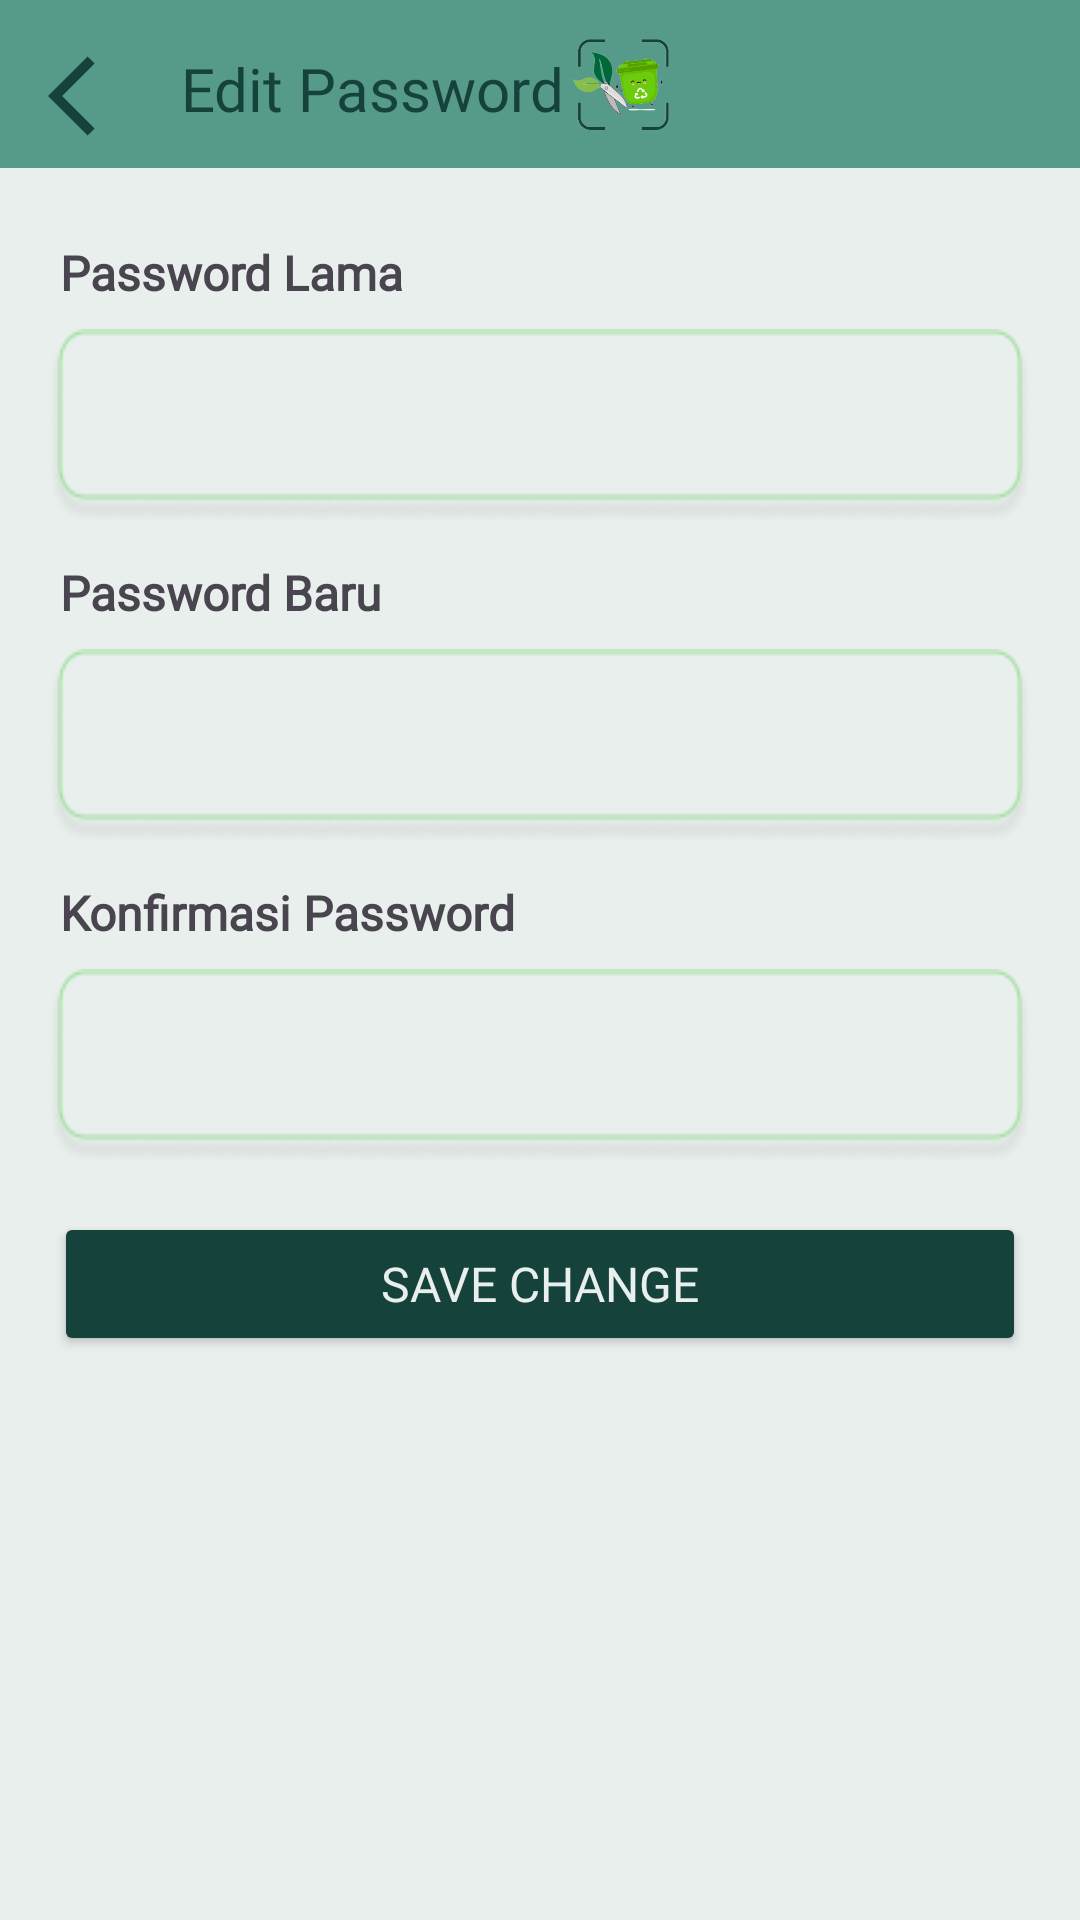

Icon click points for this 1080*1920 phone screenshot, format (x=x, y=y):
Back: (x=71, y=96)
